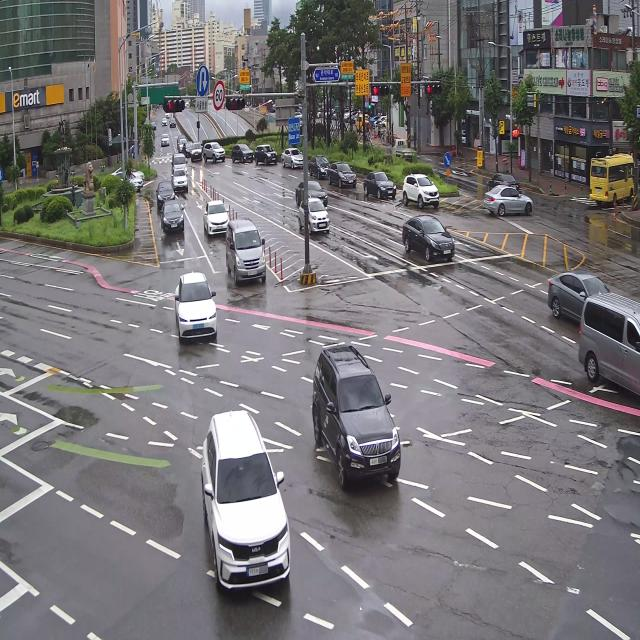Bus: (586, 147, 640, 218)
Car: (198, 408, 300, 602), (304, 331, 411, 497), (577, 278, 640, 408), (540, 247, 608, 324), (222, 200, 274, 292), (170, 268, 222, 352), (396, 203, 453, 274), (478, 181, 542, 228), (295, 195, 344, 240), (393, 162, 434, 214), (158, 192, 191, 245), (198, 192, 236, 236), (360, 167, 393, 203), (325, 156, 357, 192), (484, 170, 524, 198), (250, 140, 276, 171), (307, 150, 329, 186), (111, 162, 146, 182), (154, 174, 172, 212), (282, 142, 302, 176), (113, 172, 144, 192), (204, 138, 223, 170), (234, 137, 252, 167), (172, 151, 190, 177), (172, 170, 190, 194), (181, 138, 194, 158), (191, 143, 202, 161), (178, 135, 188, 153), (160, 132, 170, 148), (149, 118, 159, 132), (176, 132, 184, 146), (169, 116, 176, 128), (161, 116, 168, 126), (164, 112, 170, 120)
Truck: (389, 136, 417, 166), (257, 104, 268, 119)
